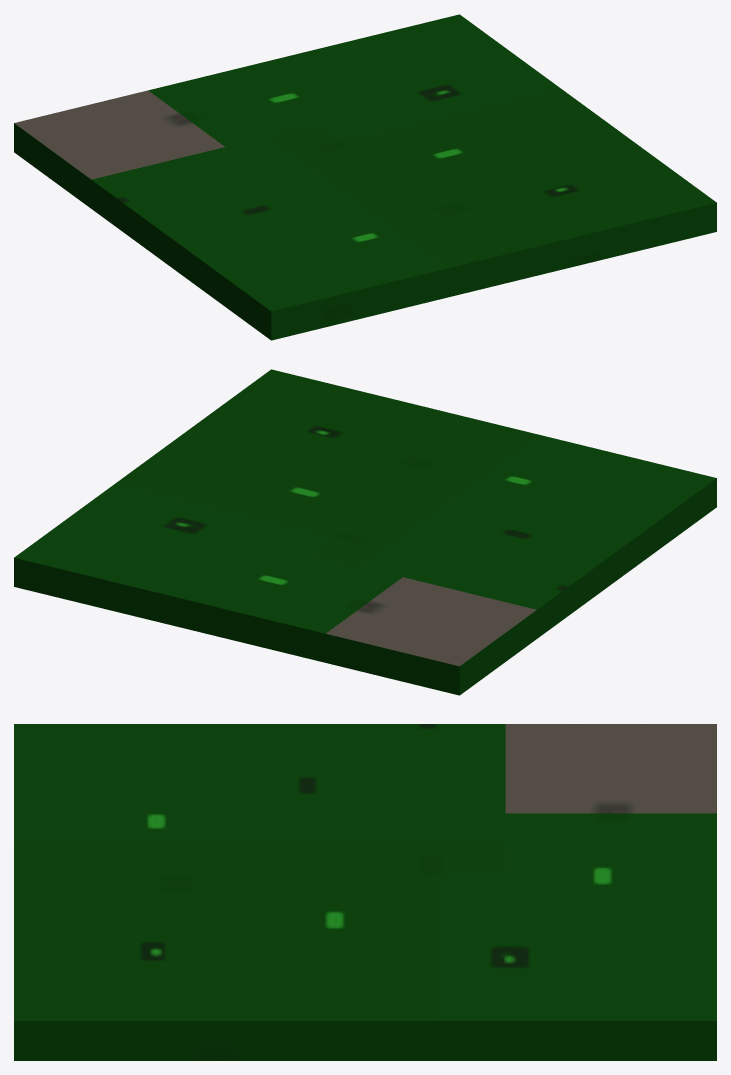
File: sidewalk_8x8__inner_corner_00.glb
3 views of the same model, one above another, from view 1: azimuth 30°, elevation 25°; view 2: azimuth 150°, elevation 25°; view 3: azimuth 270°, elevation 25° (orthographic). The views are drawn at different scales.
Visible parts, largest first — view 1: sidewalk_8x8_inner_corner_00; view 2: sidewalk_8x8_inner_corner_00; view 3: sidewalk_8x8_inner_corner_00.
Part boxes in pixels (box(x1,y1,x2,y2)): sidewalk_8x8_inner_corner_00: box(14, 14, 716, 340); sidewalk_8x8_inner_corner_00: box(14, 369, 716, 695); sidewalk_8x8_inner_corner_00: box(14, 724, 716, 1060).
Size of what is drawn, in the model's own units: 8 by 0.5 by 8.
1 material, 1 textured.
